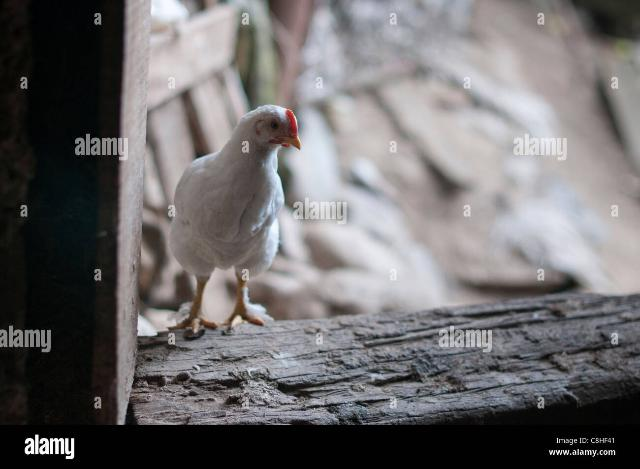Chicken: (168, 103, 303, 336)
